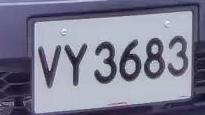3: (91, 36, 118, 88), (165, 30, 190, 84)
6: (117, 33, 145, 87)
8: (142, 33, 167, 84)
V: (35, 42, 65, 91)
Y: (61, 39, 91, 91)
